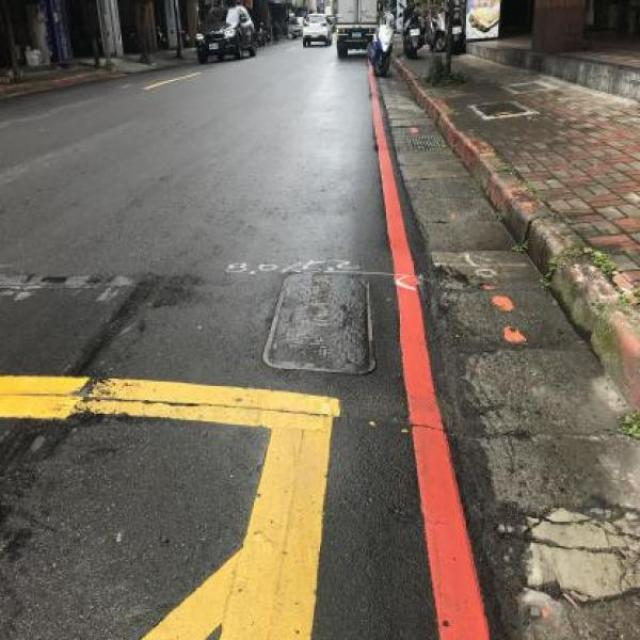Good: (259, 266, 383, 378), (470, 96, 534, 126), (498, 75, 557, 96)
